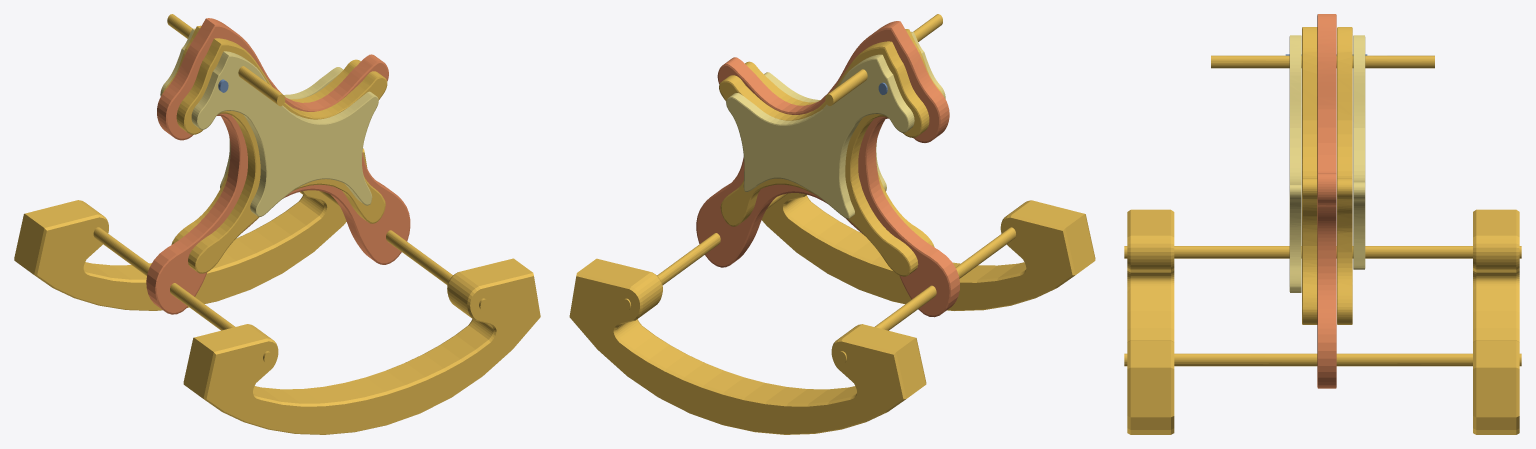
File: sh-bs0-caballito.glb
3 views of the same model, side by side, from view 1: azimuth 30°, elevation 25°; view 2: azimuth 150°, elevation 25°; view 3: azimuth 270°, elevation 25° (orthographic). The views are drawn at different scales.
Parts seen in each view (by area): view 1: BezierCurve.005, BezierCurve.006, BezierCurve.002; view 2: BezierCurve.005, BezierCurve.002, BezierCurve.006; view 3: BezierCurve.005, BezierCurve.002, BezierCurve.006.
Boxes of the visible parts, x1=… form: BezierCurve.005: x1=14, y1=14, x2=540, y2=434; BezierCurve.006: x1=160, y1=28, x2=378, y2=216; BezierCurve.002: x1=146, y1=18, x2=410, y2=314; BezierCurve.005: x1=569, y1=14, x2=1095, y2=434; BezierCurve.002: x1=696, y1=21, x2=959, y2=317; BezierCurve.006: x1=726, y1=31, x2=945, y2=218; BezierCurve.005: x1=1124, y1=27, x2=1521, y2=434; BezierCurve.002: x1=1317, y1=14, x2=1336, y2=388; BezierCurve.006: x1=1289, y1=35, x2=1365, y2=292.
Size of the model in its own units: 1 by 1 by 1.
